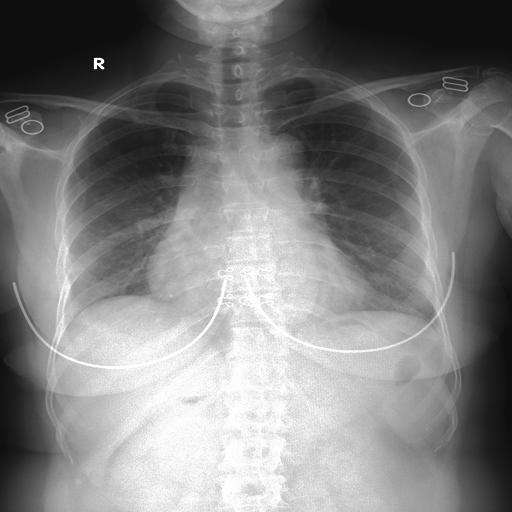Consolidation: (263, 134, 307, 197)
ILD: (300, 161, 438, 323), (59, 176, 179, 333)
Nodule/Mass: (145, 235, 371, 312)
